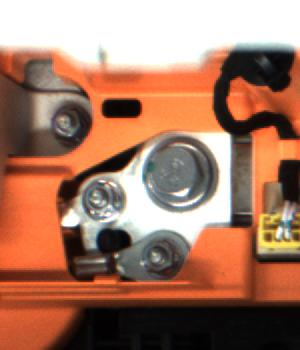nut_b: (142, 130, 223, 218)
